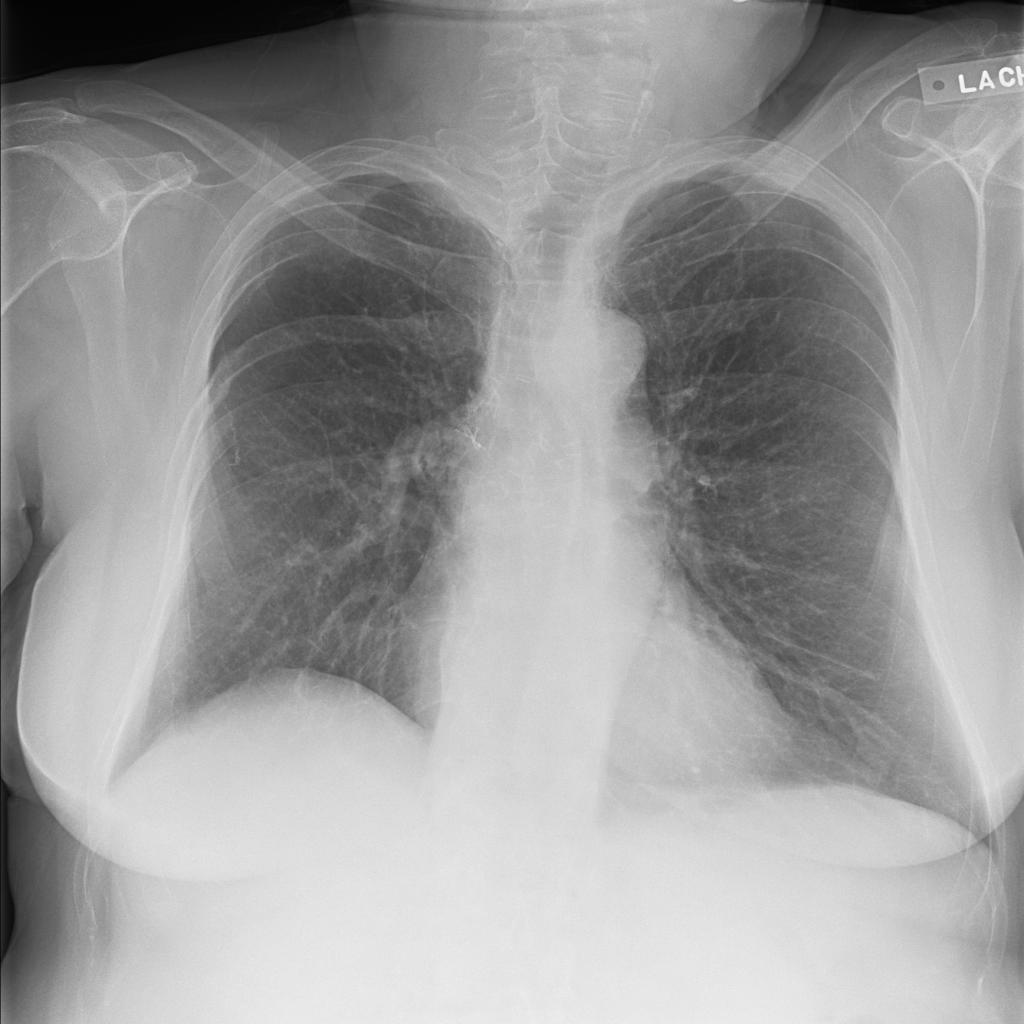Nodule: (224, 113, 268, 144), (242, 137, 280, 165)
